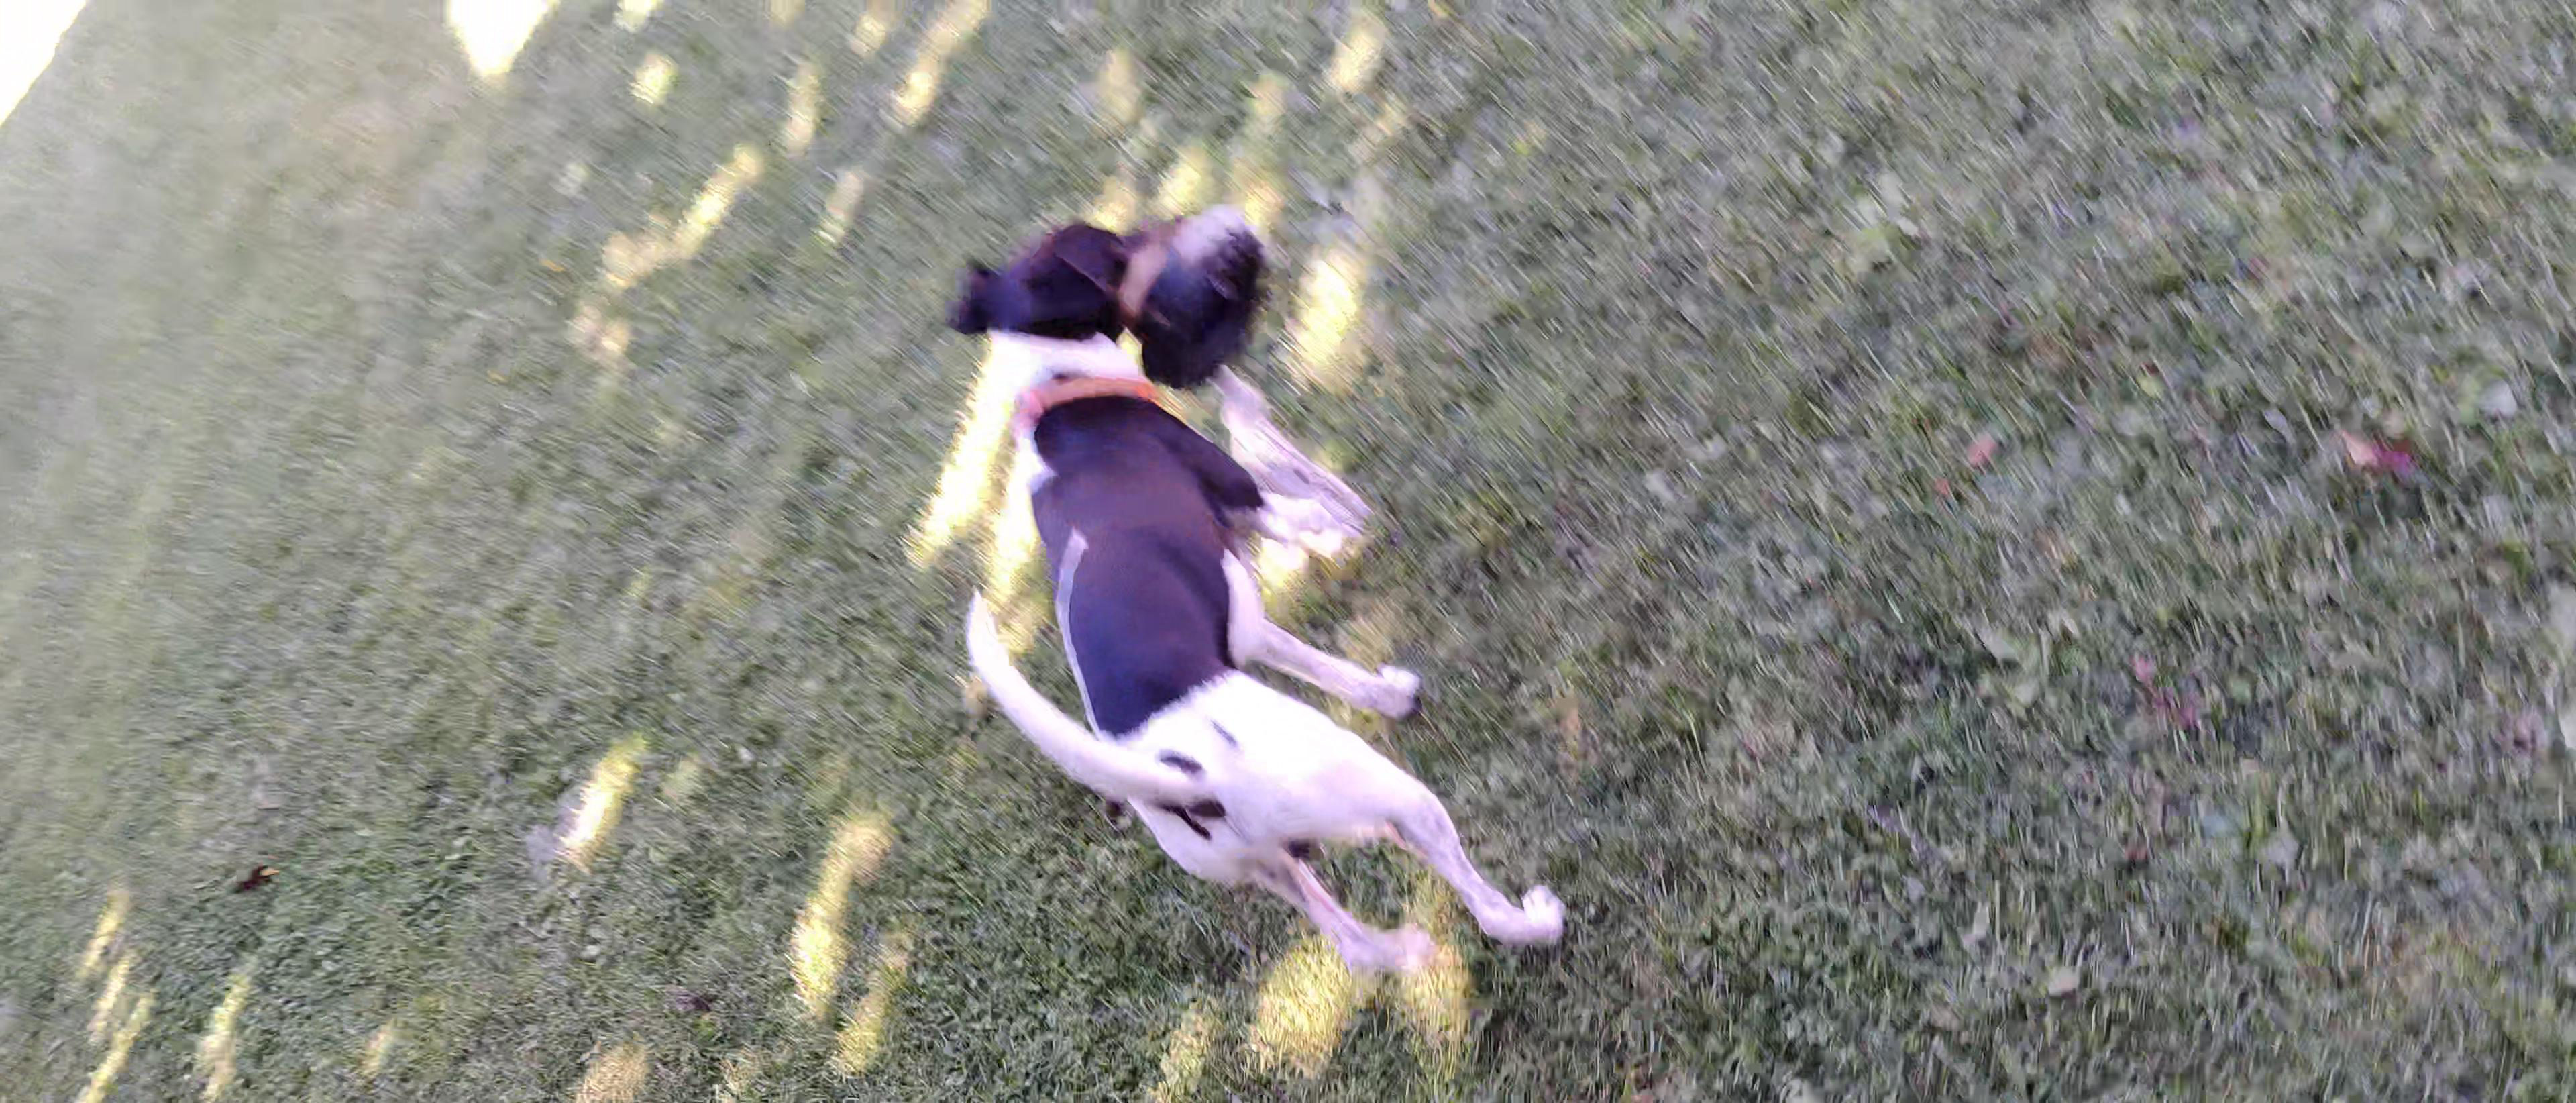Dog: (923, 169, 1592, 986)
